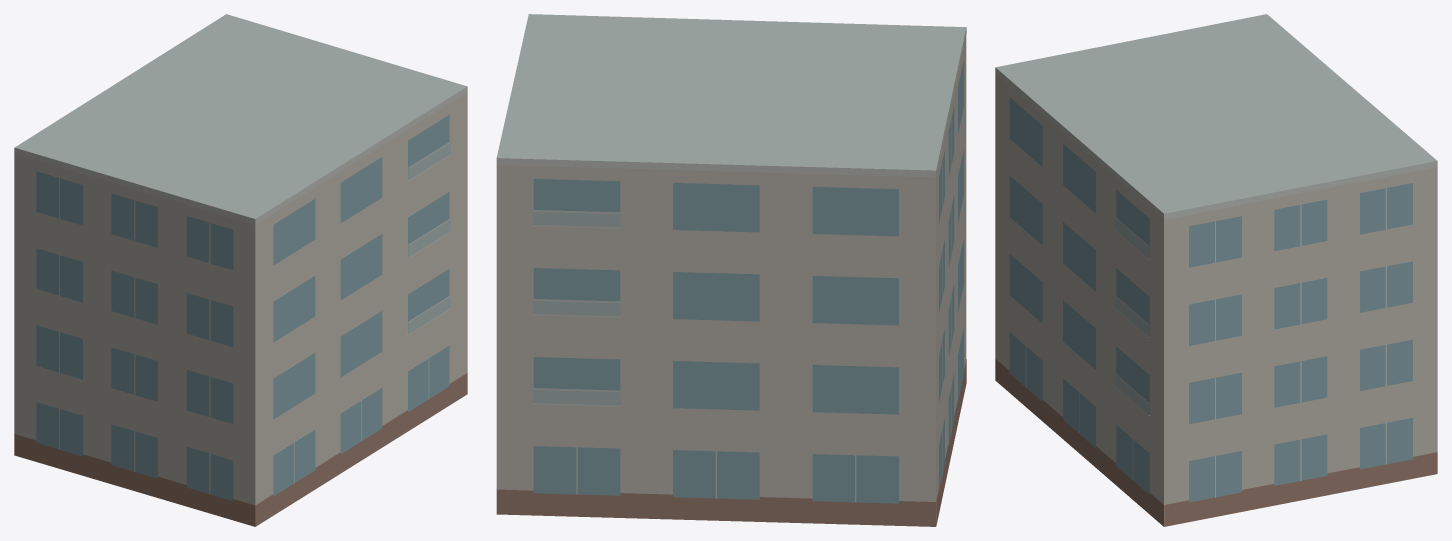
Rendered from survey-upis-32954793.glb.
3 renders of one model, left to right at view 1: azimuth 30°, elevation 25°; view 2: azimuth 150°, elevation 25°; view 3: azimuth 270°, elevation 25°, orthographic. The views are drawn at different scales.
Parts seen in each view (by area): view 1: survey-upis-32954793.tmp; view 2: survey-upis-32954793.tmp; view 3: survey-upis-32954793.tmp.
Boxes of the visible parts, left/top/right/bottom form: survey-upis-32954793.tmp: left=14, top=14, right=467, bottom=526; survey-upis-32954793.tmp: left=496, top=14, right=966, bottom=526; survey-upis-32954793.tmp: left=995, top=14, right=1437, bottom=526.
Size of the model in its own units: 17.53 by 12.8 by 16.39.
